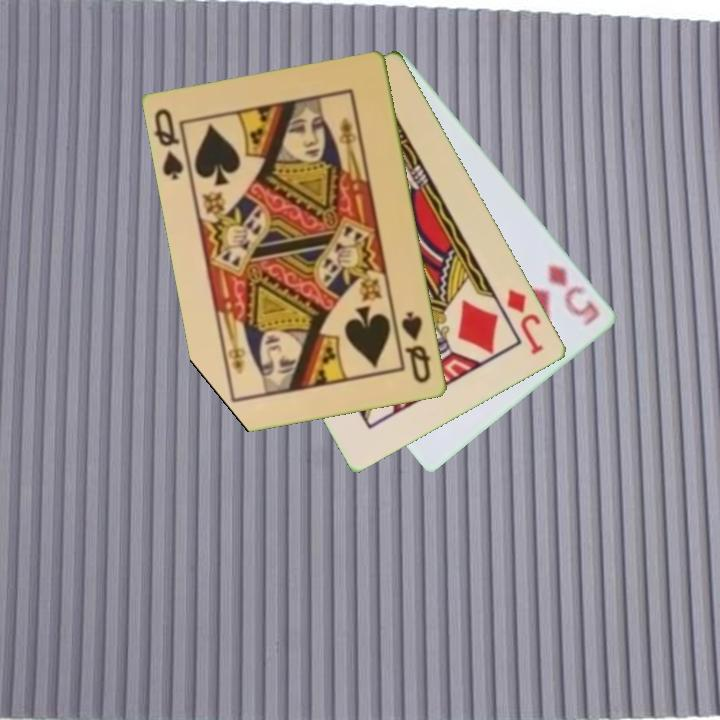5d: (544, 260, 604, 330)
Jd: (503, 286, 547, 358)
Qs: (398, 308, 434, 387), (151, 105, 187, 184)
